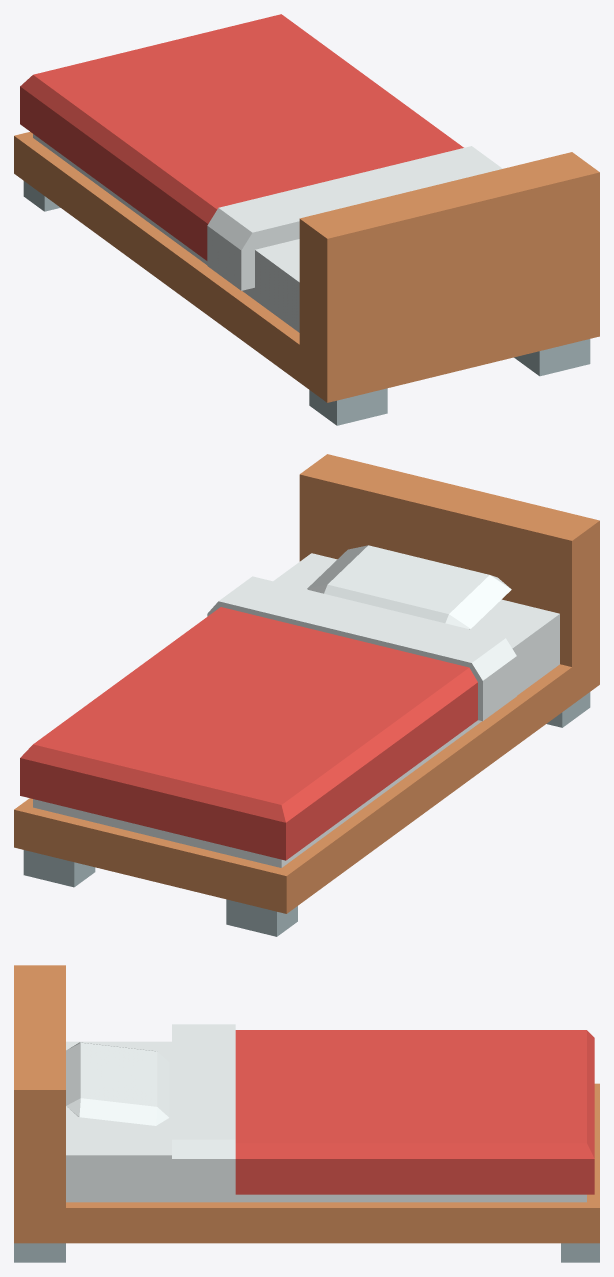
File: Bed.glb
The picture shows the model from 3 angles, top to bottom: view 1: azimuth 30°, elevation 25°; view 2: azimuth 150°, elevation 25°; view 3: azimuth 270°, elevation 25°; orthographic projection. The views are drawn at different scales.
Visible parts, largest first — view 1: bedSingle, cover; view 2: cover, bedSingle, pillow; view 3: cover, bedSingle, pillow.
Boxes of the visible parts, bbox=[...] form: bedSingle: bbox=[14, 132, 599, 425]; cover: bbox=[20, 14, 502, 290]; cover: bbox=[20, 576, 516, 860]; bedSingle: bbox=[14, 454, 599, 936]; pillow: bbox=[307, 545, 511, 629]; cover: bbox=[172, 1024, 594, 1196]; bedSingle: bbox=[14, 965, 599, 1262]; pillow: bbox=[66, 1042, 169, 1125].
Size of the model in its own units: 1.31 by 0.8625 by 2.59.
